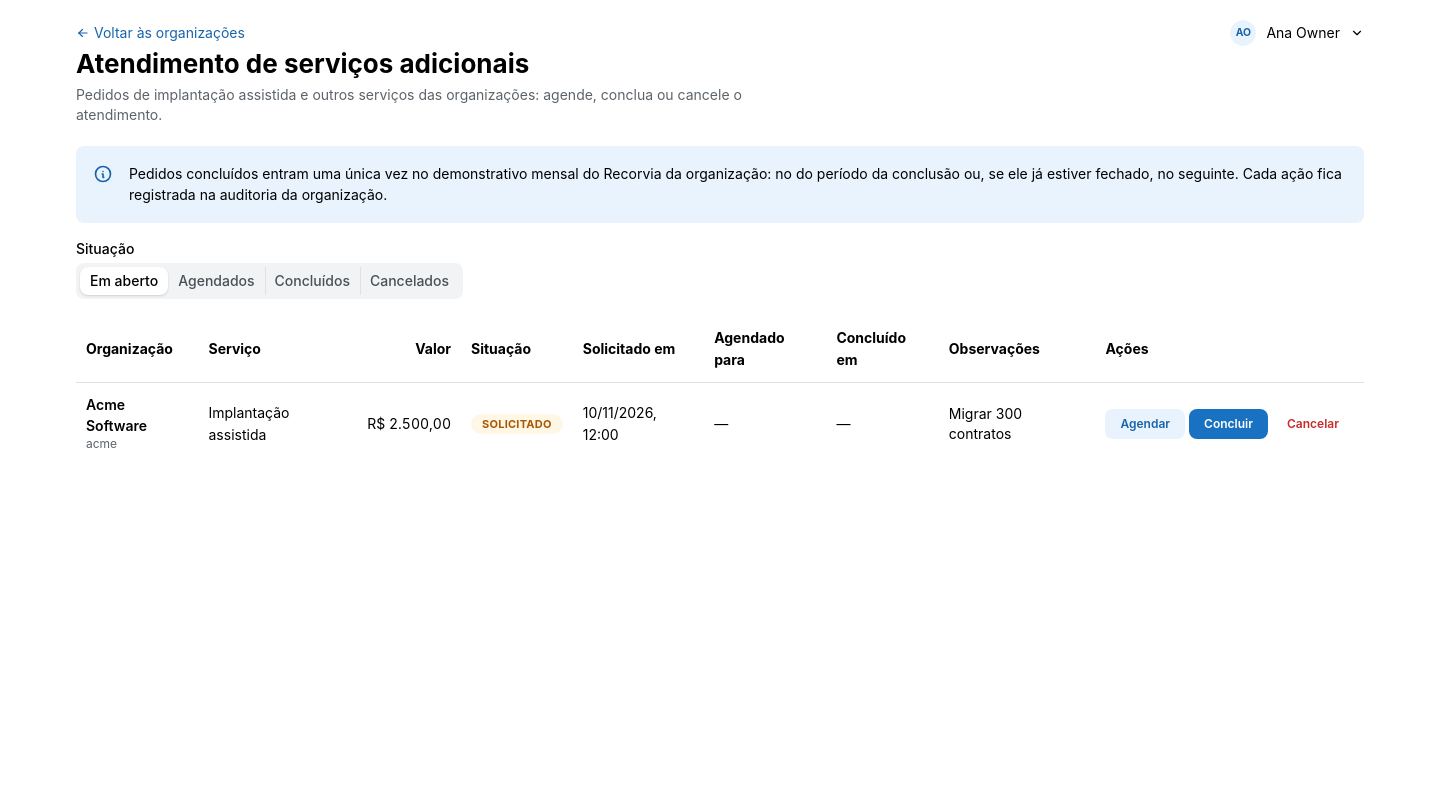
atendimento de serviços adicionais › erro de validação do servidor aparece no campo do agendamento
This screenshot has width=1440, height=810.
Click the button with aria-label "Agendar Acme Software". click: (1145, 424)
box: [1106,409,1185,439]
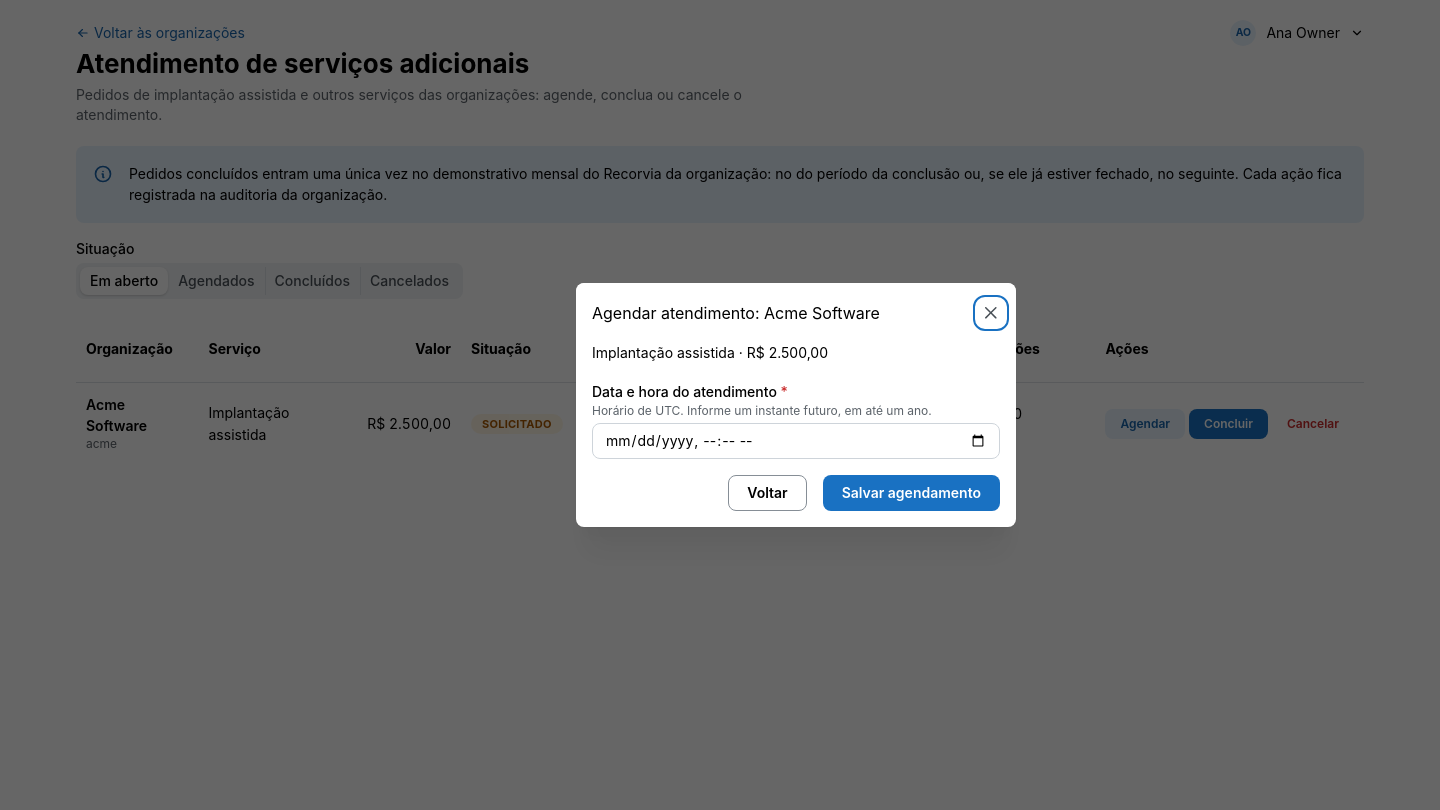
Type "2020-01-01T10:00" into the field labelled "Data e hora do atendimento *". click: (796, 441)
box: [592,423,1000,459]
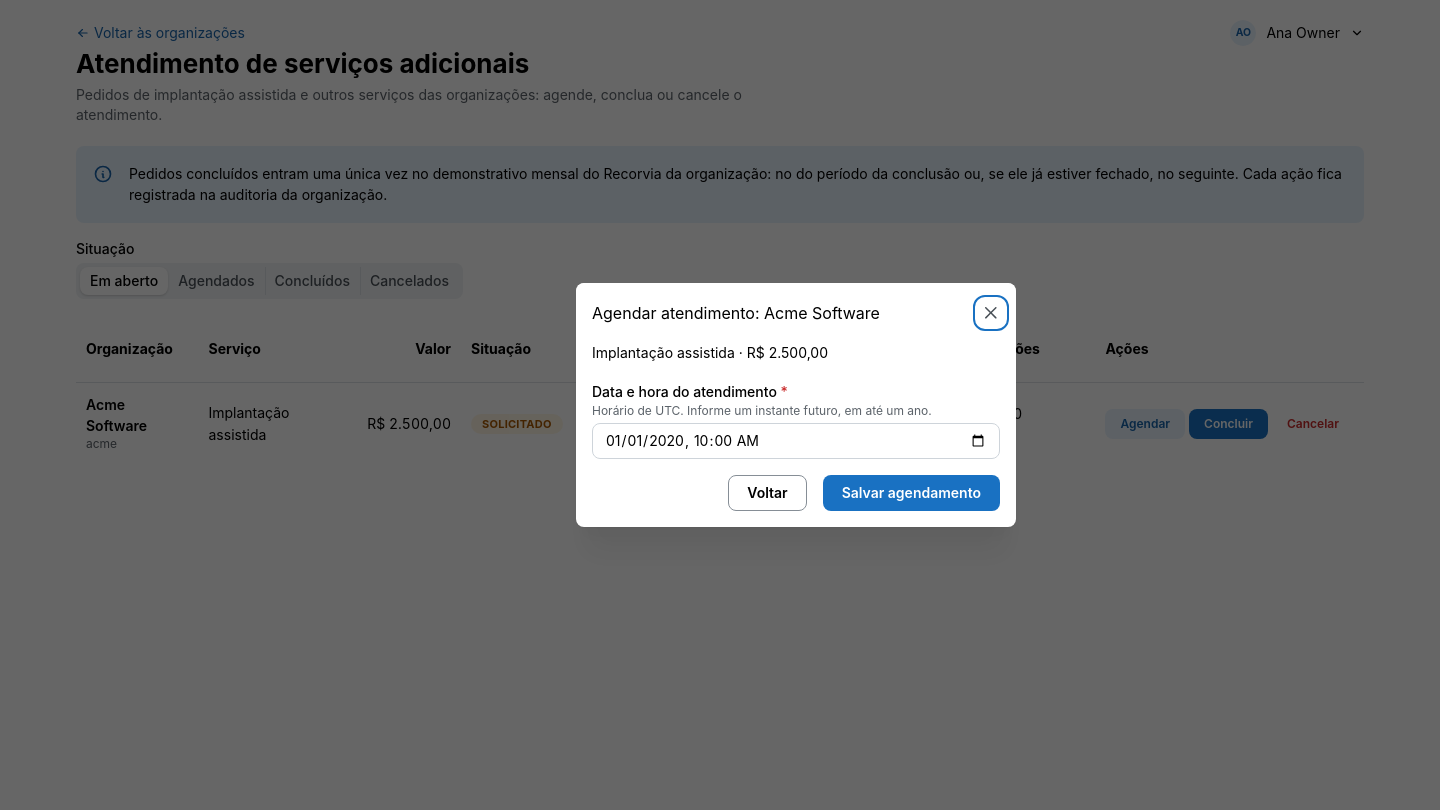
Click the button "Salvar agendamento". click: (911, 493)
box: [823,475,1000,511]
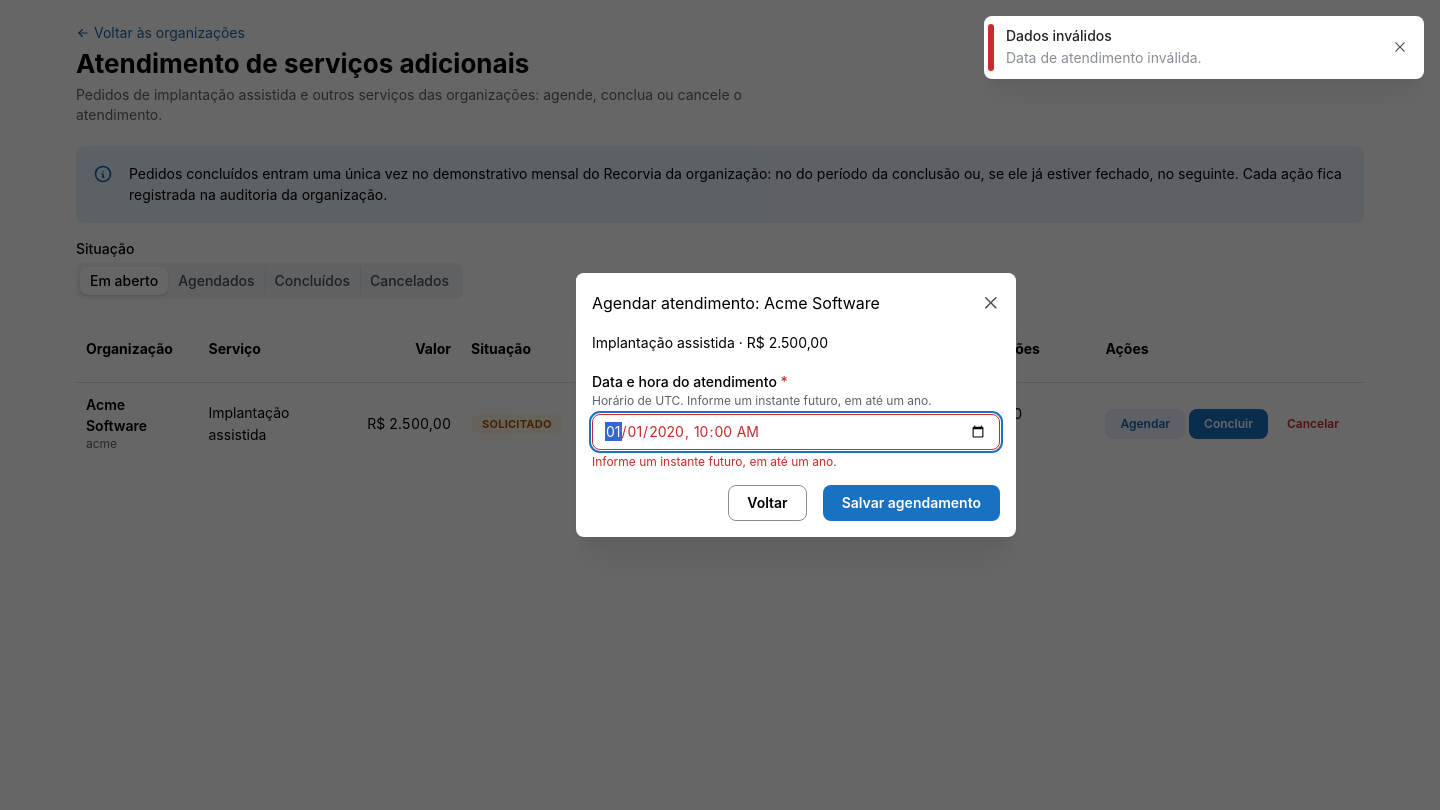
Expected: the text "Informe um instante futuro, em até um ano." is shown, [592,454,837,468]
